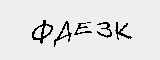Д: (51, 19, 71, 45)
Е: (74, 19, 94, 37)
З: (96, 19, 112, 41)
К: (112, 21, 133, 43)
Ф: (30, 19, 54, 46)
